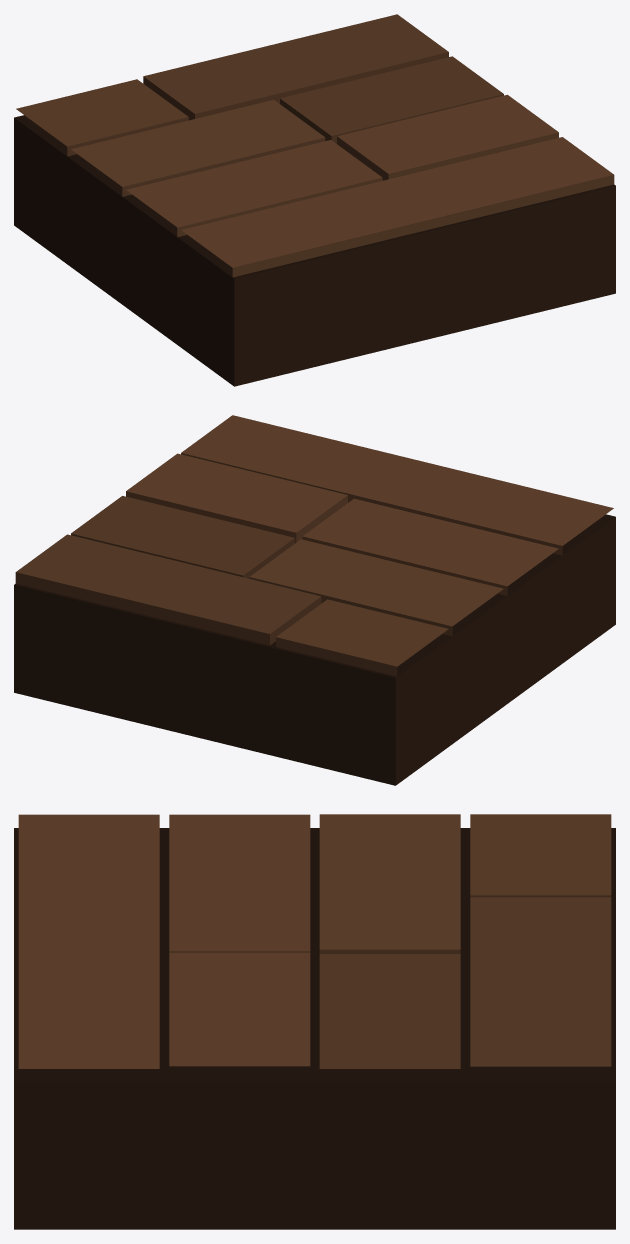
The model's file is tile_wood_floor.glb.
3 renders of one model, top to bottom at view 1: azimuth 30°, elevation 25°; view 2: azimuth 150°, elevation 25°; view 3: azimuth 270°, elevation 25°, orthographic. The views are drawn at different scales.
Visible parts, largest first — view 1: tile_wood_floor; view 2: tile_wood_floor; view 3: tile_wood_floor.
Boxes of the visible parts, bbox=[...] form: tile_wood_floor: bbox=[14, 14, 615, 386]; tile_wood_floor: bbox=[14, 415, 615, 785]; tile_wood_floor: bbox=[14, 814, 615, 1229].
Size of the model in its own units: 1 by 0.2993 by 1.
